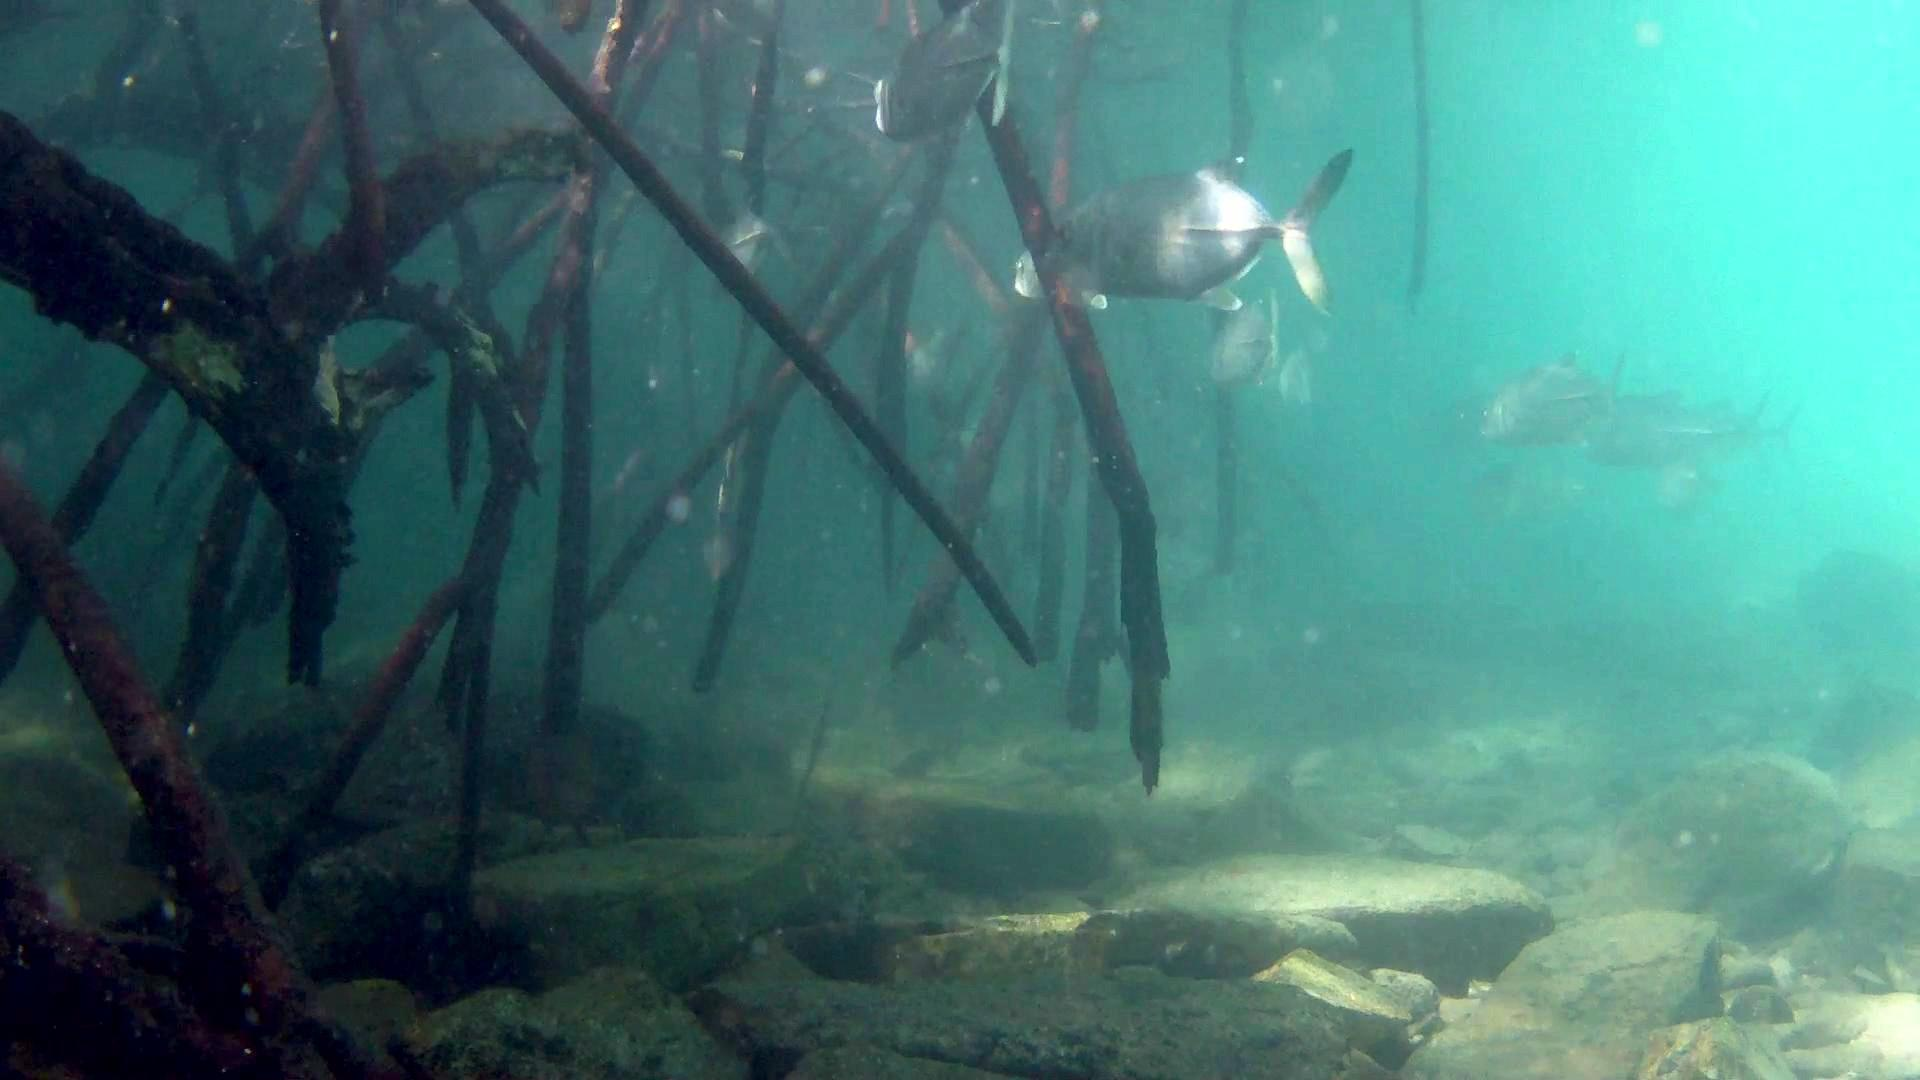caranx: (1022, 143, 1363, 313), (861, 0, 1028, 156)
